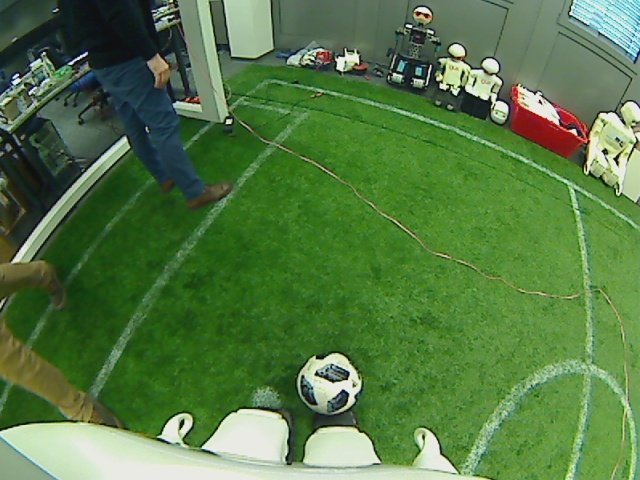ball: (294, 351, 362, 416)
